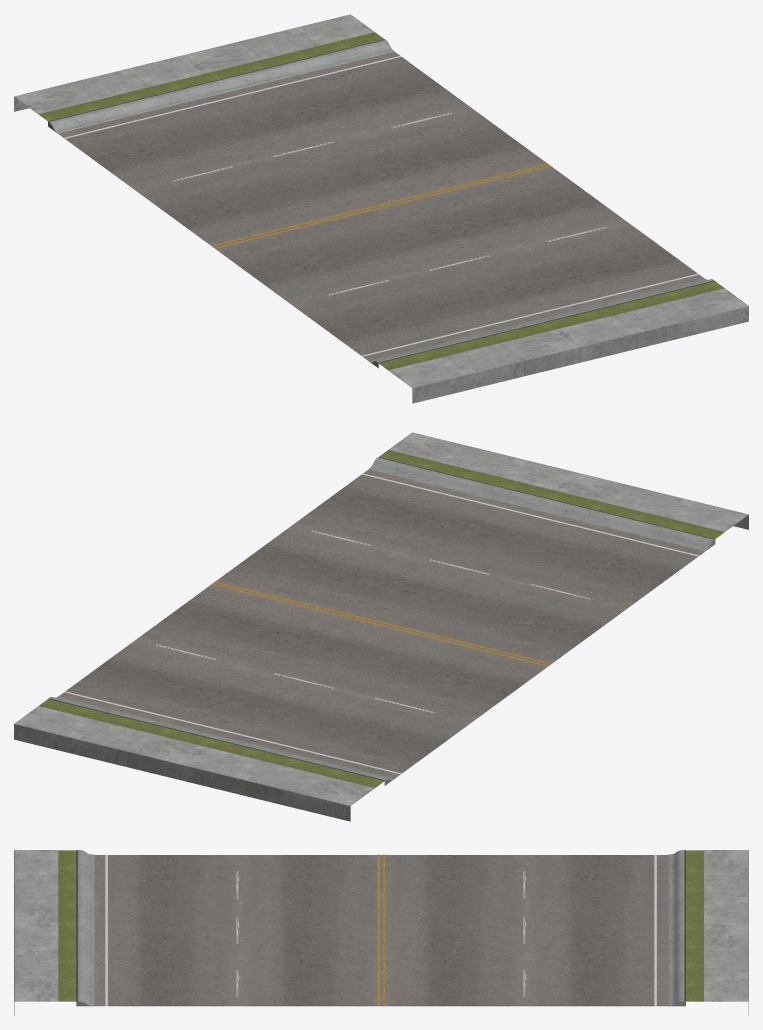
File: Road_4L_VarD.fbx
3 renders of one model, top to bottom at view 1: azimuth 30°, elevation 25°; view 2: azimuth 150°, elevation 25°; view 3: azimuth 270°, elevation 25°, orthographic. The views are drawn at different scales.
Visible parts, largest first — view 1: Road_4L_VarD_LOD0; view 2: Road_4L_VarD_LOD0; view 3: Road_4L_VarD_LOD0.
Boxes of the visible parts, x1,y1,x2,y2 form: Road_4L_VarD_LOD0: (14, 14, 748, 403); Road_4L_VarD_LOD0: (14, 432, 748, 821); Road_4L_VarD_LOD0: (14, 850, 748, 1015).
Size of what is drawn, in the model's own units: 1000 by 44.83 by 2050.
